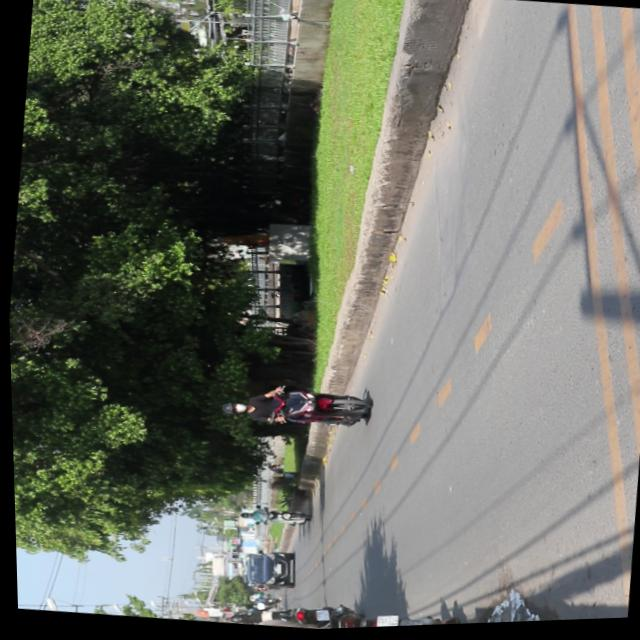helmet: (216, 400, 246, 416)
licenseplate: (161, 580, 467, 636), (214, 378, 368, 438)
nohelmet: (369, 616, 393, 630)
